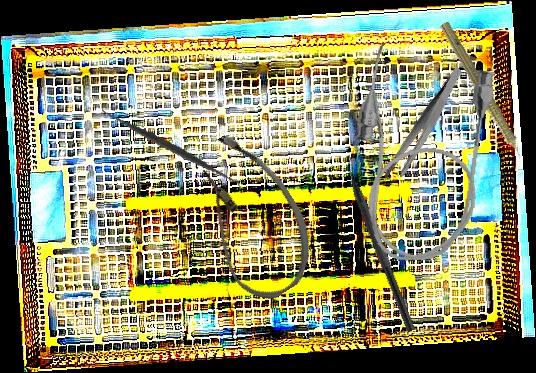Cannula: (342, 41, 497, 269), (167, 122, 333, 311)
Chopper: (335, 147, 428, 333)
Dressing Forceps: (362, 65, 488, 186)
Handpiece: (433, 19, 534, 173)
Spatula Surgical: (100, 77, 242, 218)
